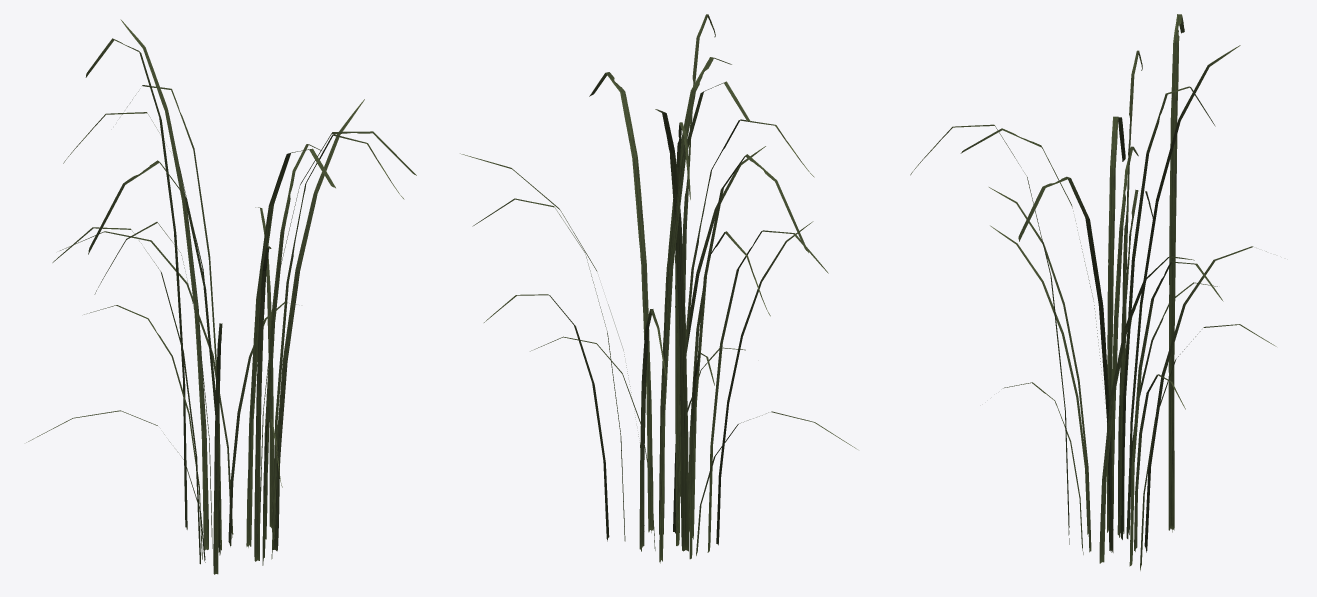
The model's file is wild_leafy_a.glb.
3 renders of one model, left to right at view 1: azimuth 30°, elevation 25°; view 2: azimuth 150°, elevation 25°; view 3: azimuth 270°, elevation 25°, orthographic. The views are drawn at different scales.
Visible parts, largest first — view 1: wild_leafy_a; view 2: wild_leafy_a; view 3: wild_leafy_a.
Part boxes in pixels (x1,y1,x2,y2): wild_leafy_a: (26, 19, 416, 574); wild_leafy_a: (460, 14, 857, 563); wild_leafy_a: (910, 14, 1276, 570).
Size of the model in its own units: 0.2523 by 0.3245 by 0.2372.
1 material, 1 textured.
